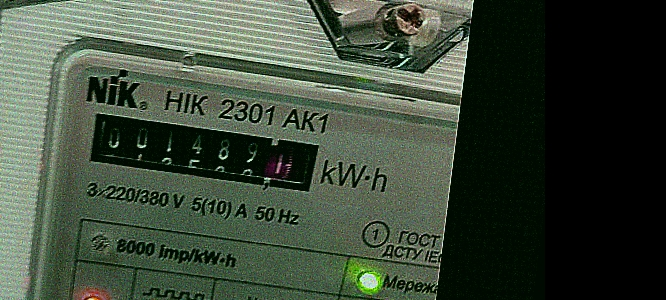0: (131, 122, 150, 149), (104, 123, 122, 150)
1: (160, 125, 177, 155), (270, 145, 285, 176)
4: (187, 129, 206, 157)
8: (212, 133, 232, 161)
9: (241, 138, 259, 165)
screen: (71, 99, 335, 207)
